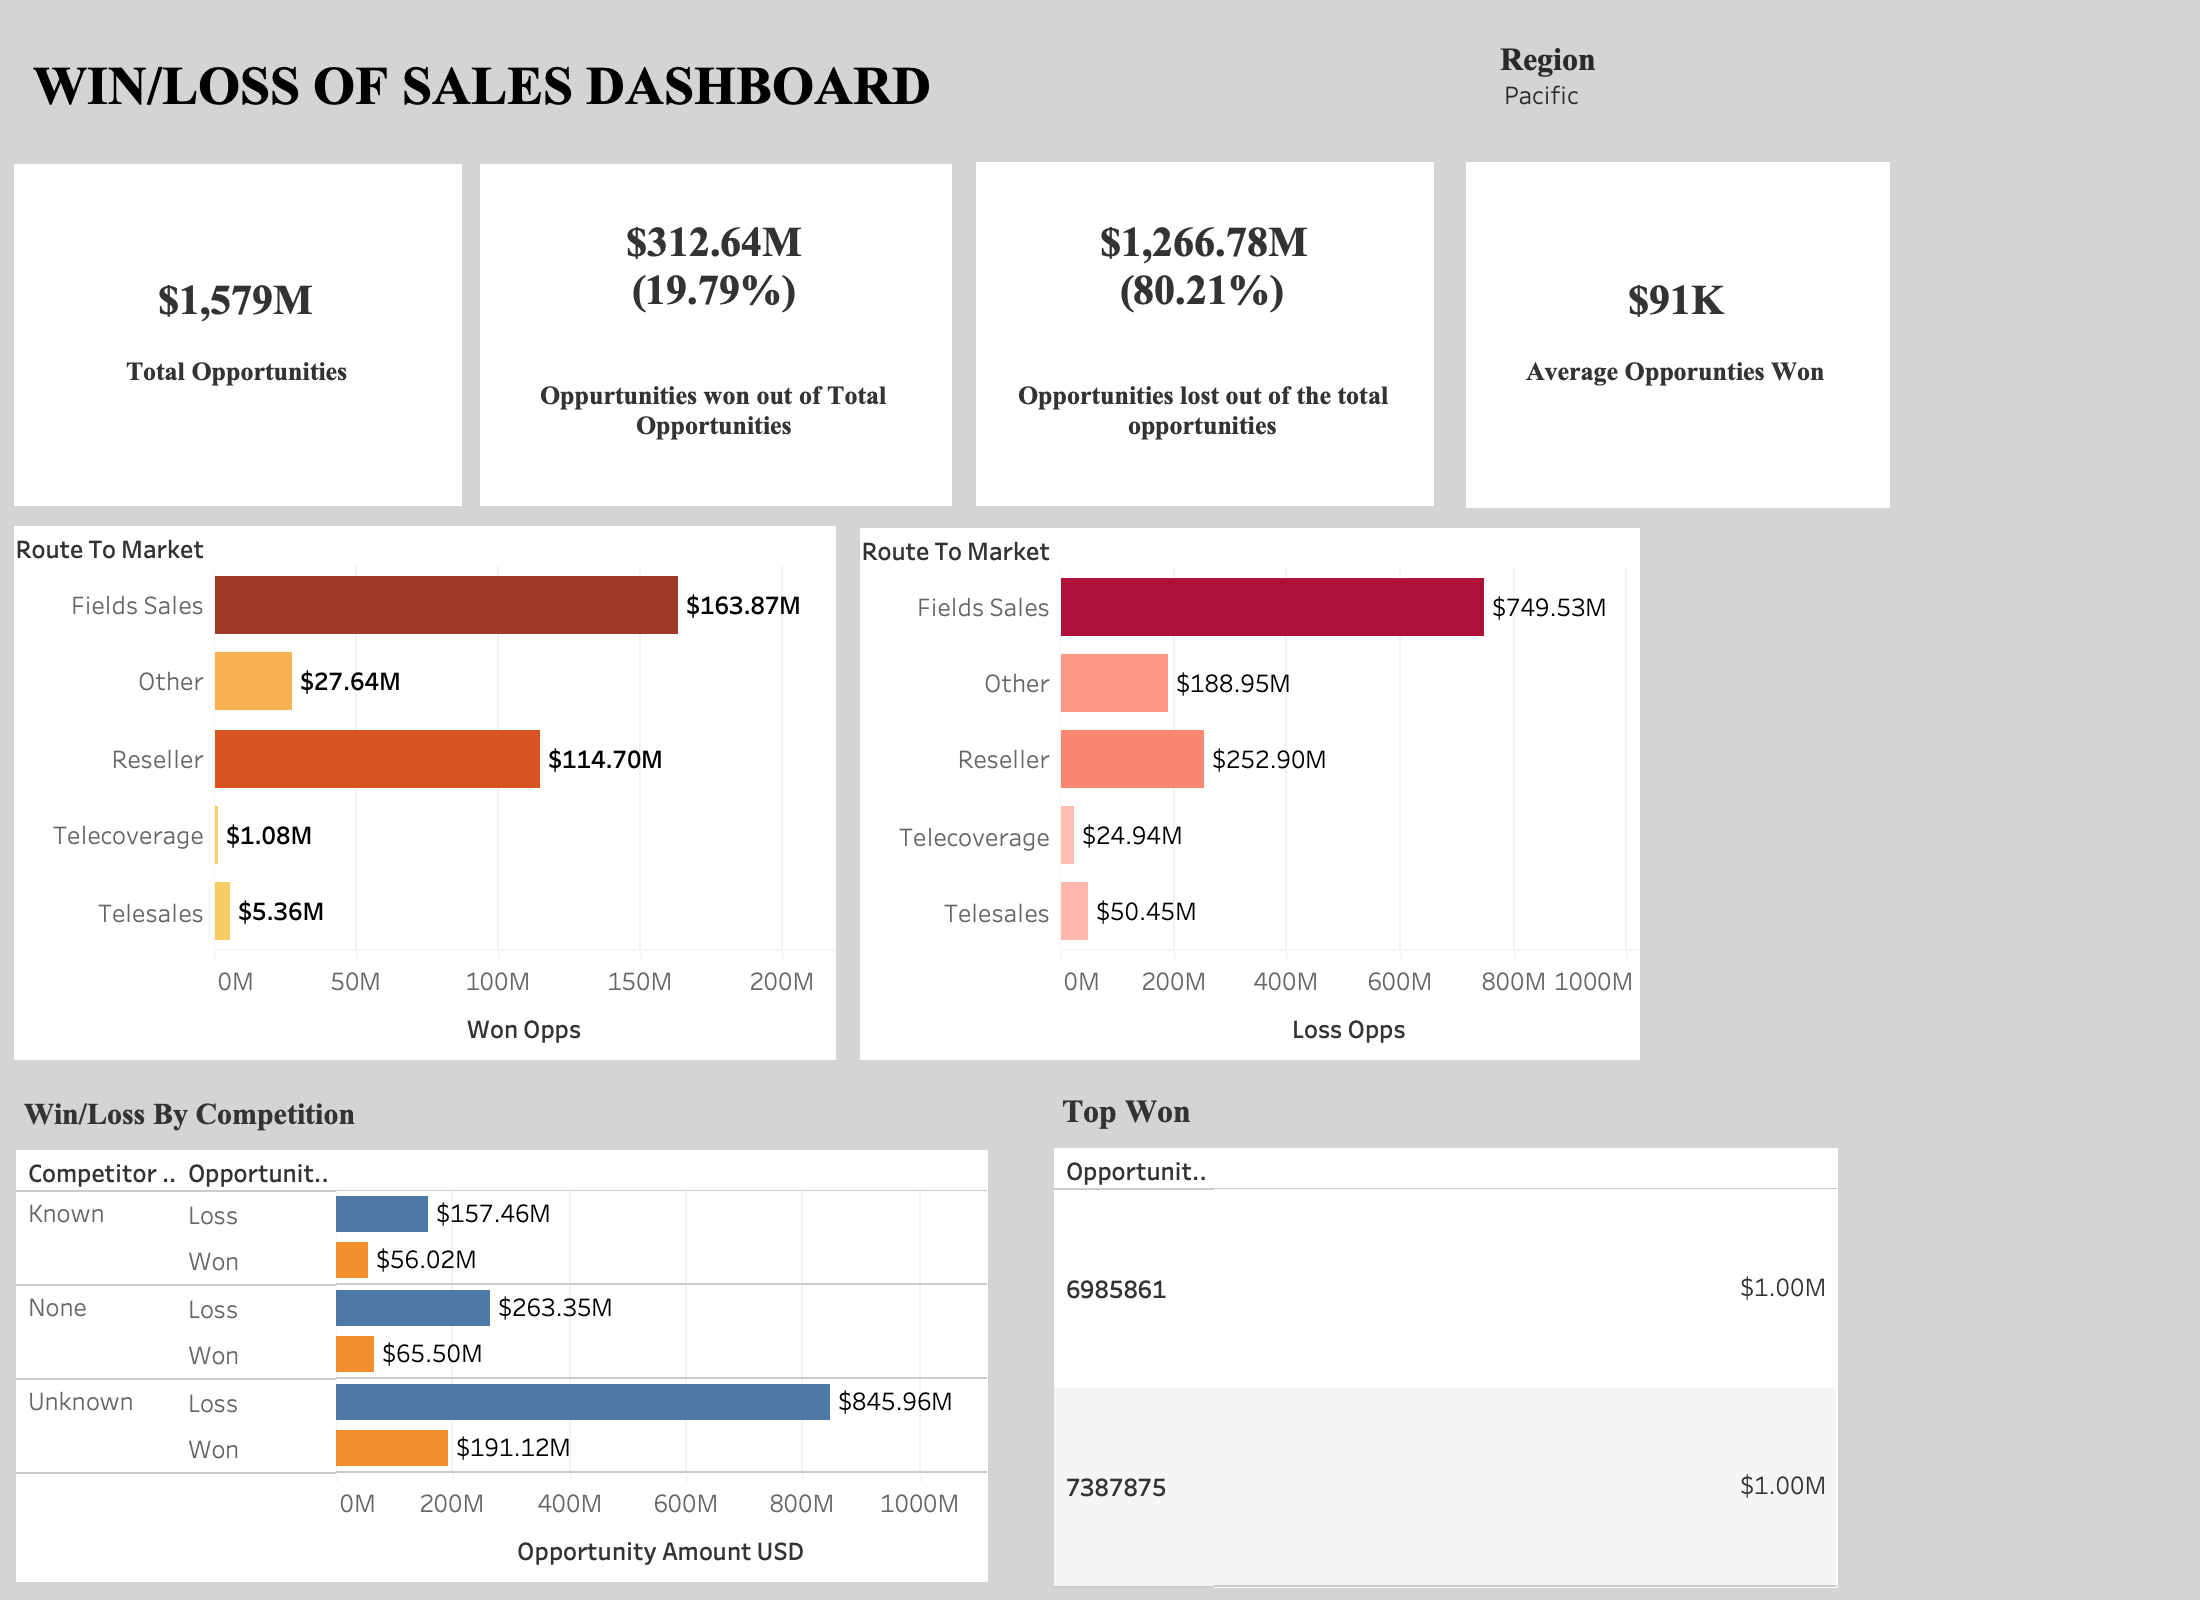

Layout of this report page (visuals, bound fields, positions):
{"tool":"tableau","page":{"name":"Dashboard 1","canvas":[1100,800],"ordinal":0},"visuals":[{"type":"text","box":[14,12,505,62]},{"type":"filter","title":"Total Opps","param":"[federated.0akpz4h0jh90vh15rerrt02j68j4].[none:Region:nk]","box":[750,20,161,176]},{"type":"worksheet","title":"Opportunities Lost","mark":"Automatic","box":[488,81,228,171]},{"type":"worksheet","title":"Average Opportunities Won","mark":"Automatic","box":[733,81,211,172]},{"type":"worksheet","title":"Total Opps","mark":"Automatic","box":[7,82,223,170]},{"type":"worksheet","title":"Opportunties won","mark":"Automatic","box":[240,82,235,170]},{"type":"worksheet","title":"Route To Market for won","mark":"Automatic","rows":["Route To Market"],"cols":["Calculation_706080034232848384"],"box":[7,263,410,267]},{"type":"worksheet","title":"Route to Market for Lost Opportunities","mark":"Automatic","rows":["Route To Market"],"cols":["Calculation_706080034236268548"],"box":[430,264,389,266]},{"type":"worksheet","title":"Top Opportunties won","mark":"Automatic","rows":["Opportunity Number"],"box":[527,541,392,253]},{"type":"worksheet","title":"Win/Loss by Competition","mark":"Automatic","rows":["Competitor Type","Opportunity Result"],"cols":["Opportunity Amount USD"],"box":[8,543,486,249]}]}

Visuals, with their boxes in screenshot pixels (x1, y1, x2, y2), scaled from the page's 1100x800 canvas onto the 2200x1600 screenshot:
text: 28, 24, 1038, 148
"Total Opps" filter: 1500, 40, 1822, 392
"Opportunities Lost" worksheet: 976, 162, 1432, 504
"Average Opportunities Won" worksheet: 1466, 162, 1888, 506
"Total Opps" worksheet: 14, 164, 460, 504
"Opportunties won" worksheet: 480, 164, 950, 504
"Route To Market for won" worksheet: 14, 526, 834, 1060
"Route to Market for Lost Opportunities" worksheet: 860, 528, 1638, 1060
"Top Opportunties won" worksheet: 1054, 1082, 1838, 1588
"Win/Loss by Competition" worksheet: 16, 1086, 988, 1584
